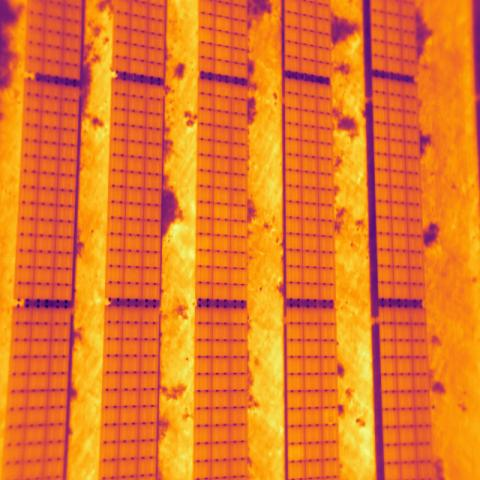fault: (286, 444, 306, 464)
